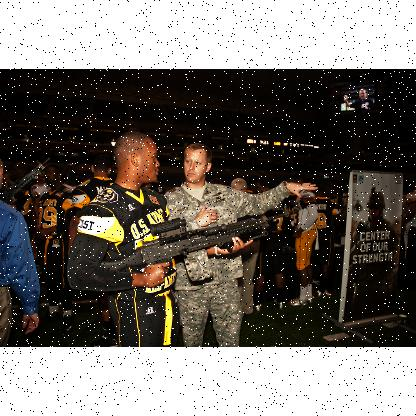gun: (102, 210, 296, 268)
